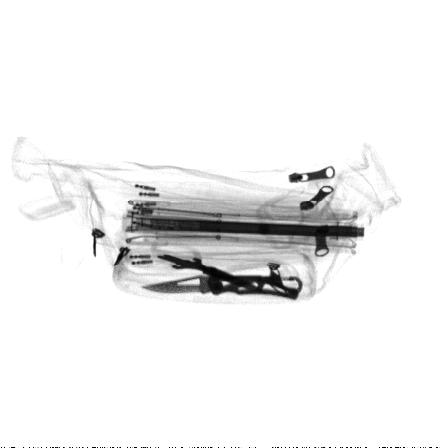Knife: (140, 274, 305, 303)
Scissors: (124, 238, 253, 287)
